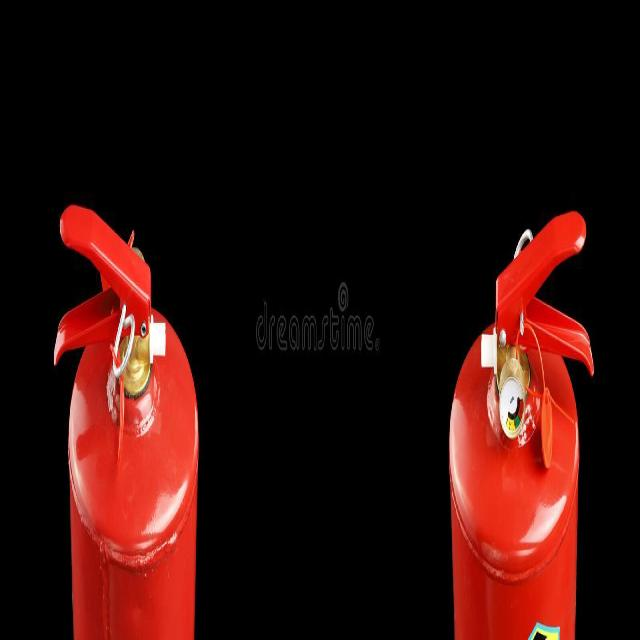fire_extinguisher: (441, 200, 599, 639), (48, 193, 203, 639)
